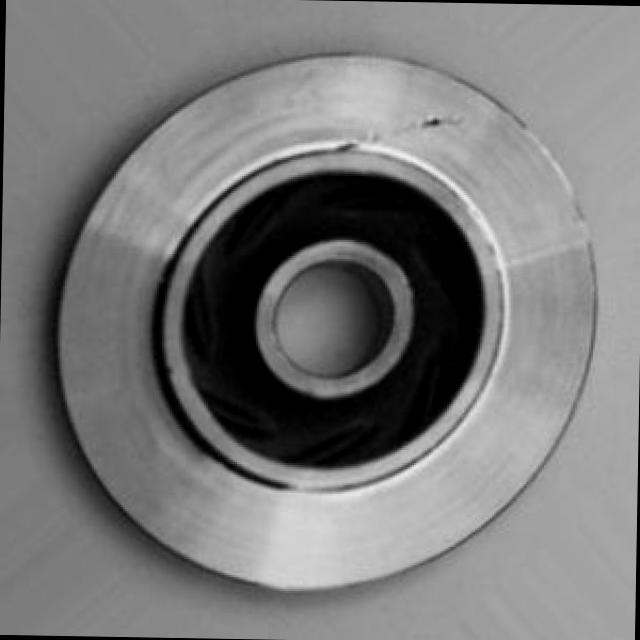Defect: (418, 104, 444, 146)
